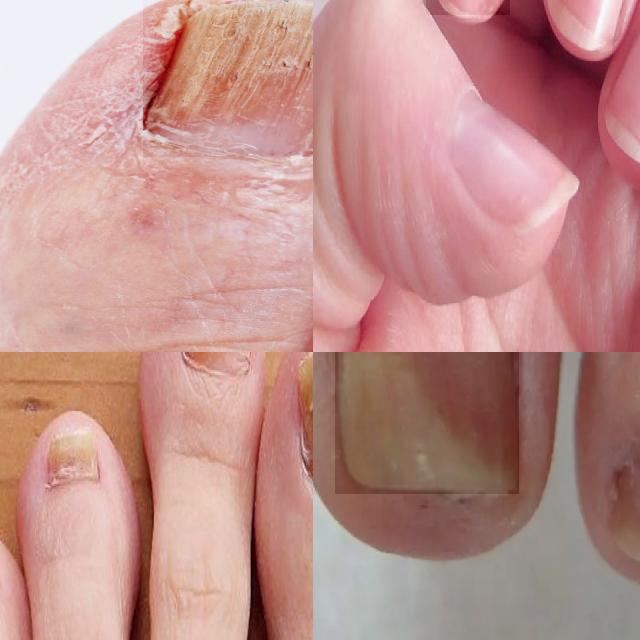diabetes: (144, 0, 313, 157), (335, 352, 519, 494), (46, 428, 99, 487), (183, 352, 250, 380)
sehat: (451, 93, 578, 235), (603, 30, 640, 161), (549, 0, 621, 45)
